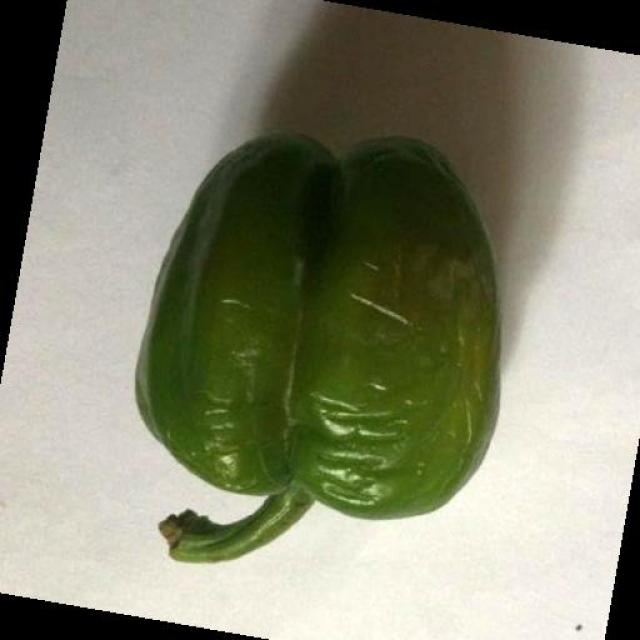Stale_Capsicum: (145, 132, 508, 536)
